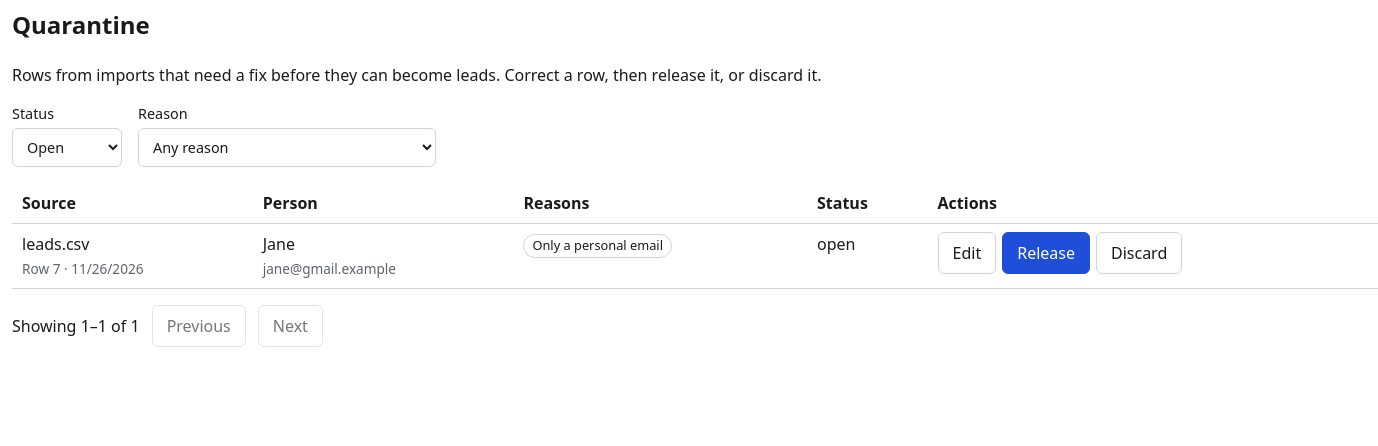
Test case: release › 503: shows the clear 'not available yet' message and leaves the row in the list
Expected: the text "leads.csv" is shown, x1=22 y1=233 x2=89 y2=255
Click the button with aria-label "Release row 7 of leads.csv" at {"x": 1046, "y": 253}, box x1=1002 y1=232 x2=1090 y2=274
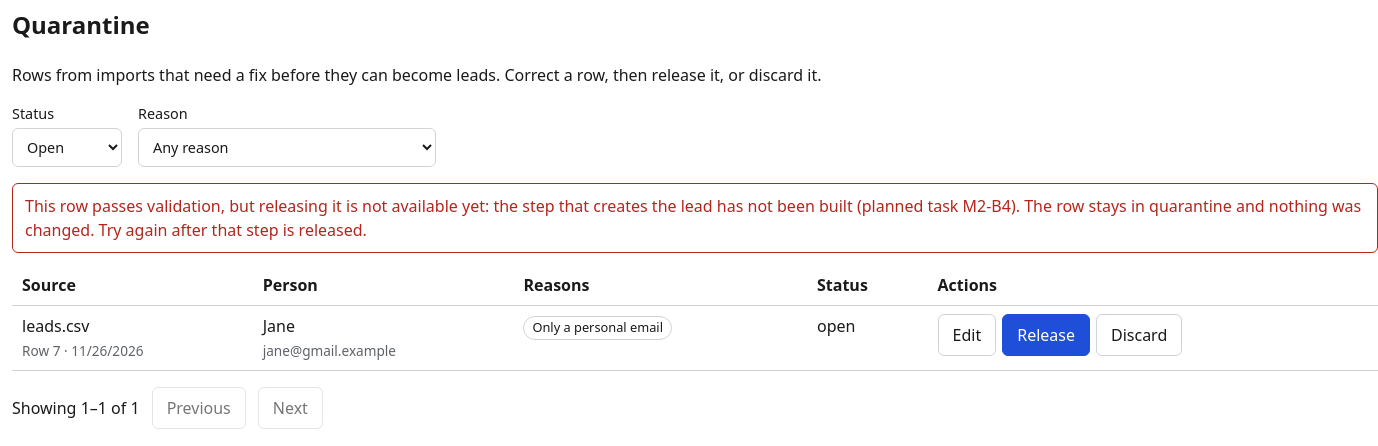
Expected: the text "leads.csv" is shown, x1=22 y1=315 x2=89 y2=337
Expected: the message shows "releasing it is not available yet", x1=25 y1=195 x2=1361 y2=241
Expected: the message shows "stays in quarantine", x1=25 y1=195 x2=1361 y2=241
